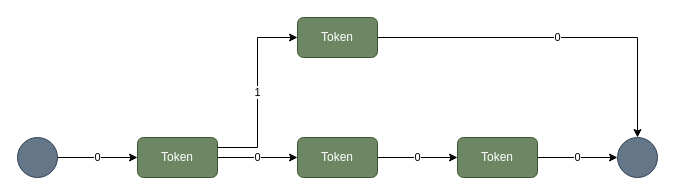
The diagram is 675 pixels wide and 195 high, and some of its shapes have lost their labels. The centre of each missing label's shape, as x and y in pixels:
End: (x=637, y=157)
Start: (x=37, y=157)
